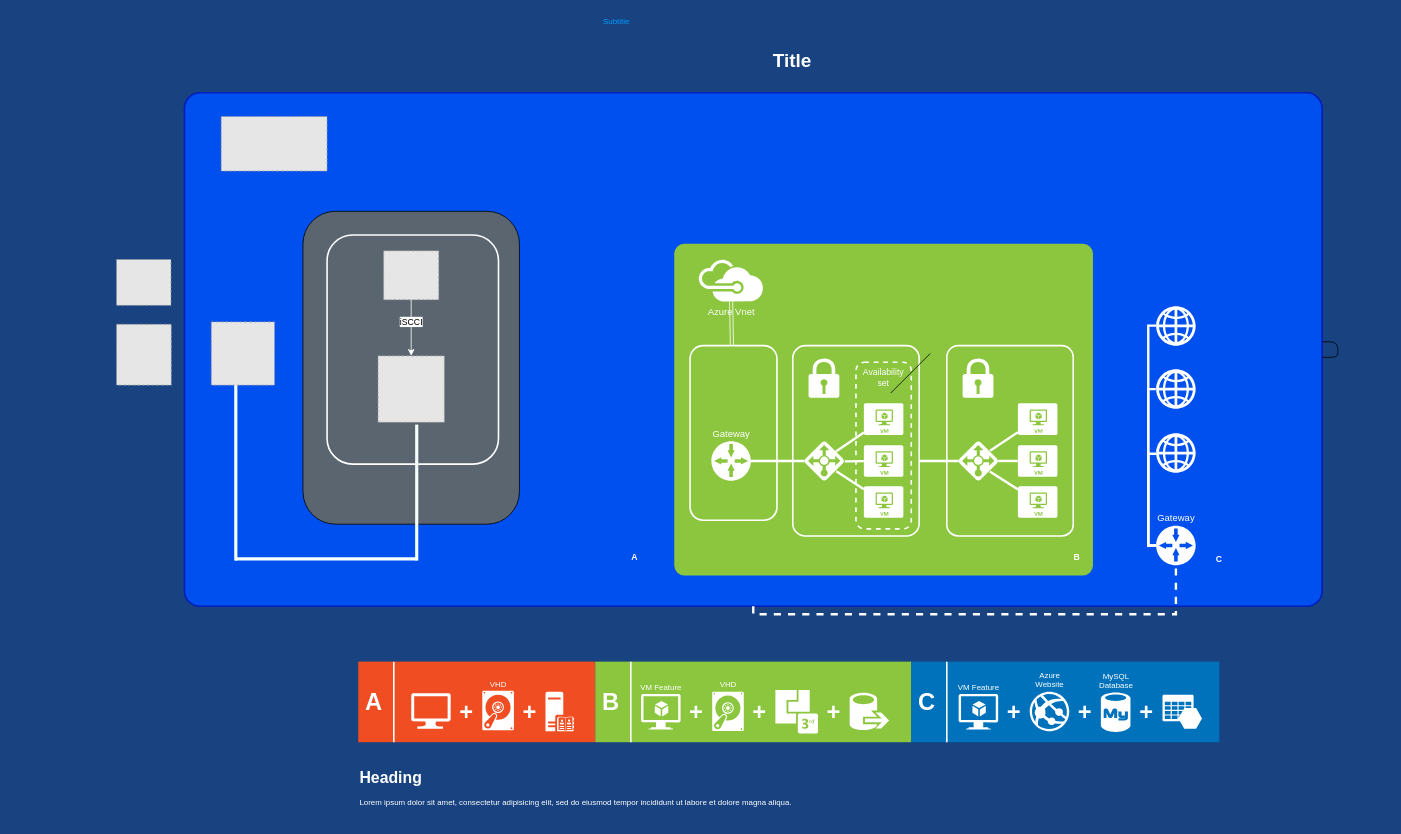
The diagram is 1401 pixels wide and 834 high, and some of its shapes have lost their labels. Grey dashed boxes stand in for pictures. The box of each missing label's shape, as (x1, y1, x2, y2) in pixels:
3rd Party Integration: (775, 690, 818, 733)
Azure Storage: (1162, 694, 1202, 728)
Computer: (411, 693, 450, 728)
Data Migration Wizard: (849, 692, 889, 730)
Server Directory: (545, 691, 574, 731)
